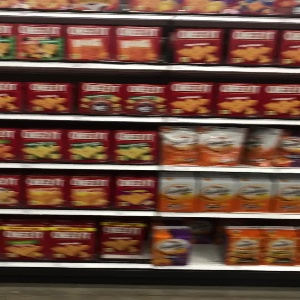void: (191, 218, 225, 266)
